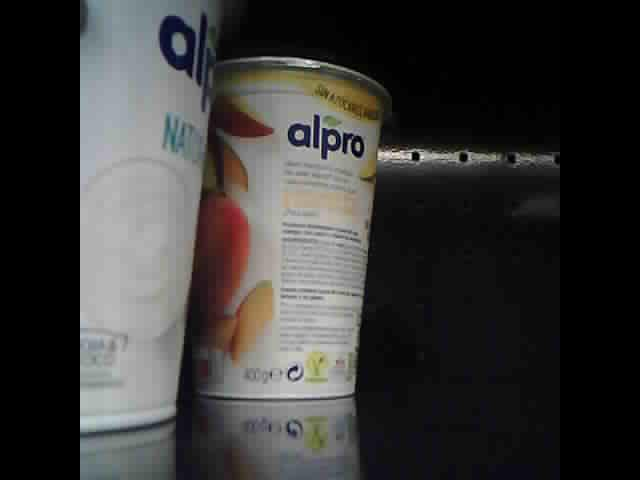alpro: (195, 53, 391, 403), (81, 1, 236, 436)
